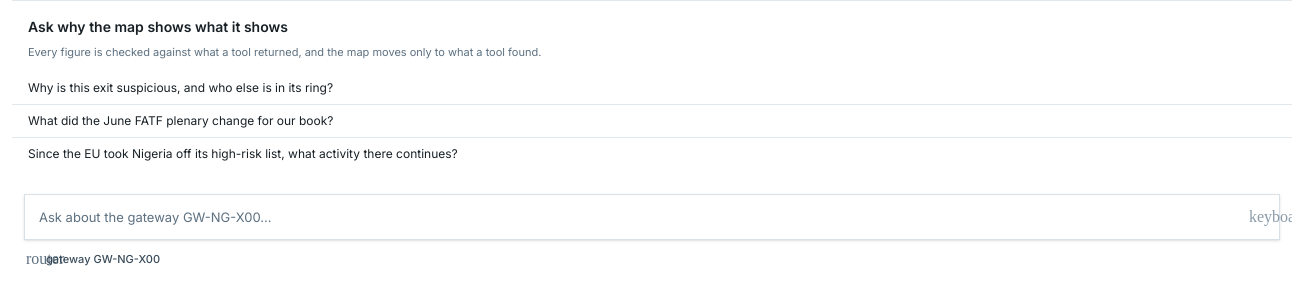
the geospatial assistant beside the map › asks with the map context and applies the first move when the answer arrives
Click the button "Why is this exit suspicious, and who else is in its ring?".
click(181, 88)  # box 12,72 -> 1292,104
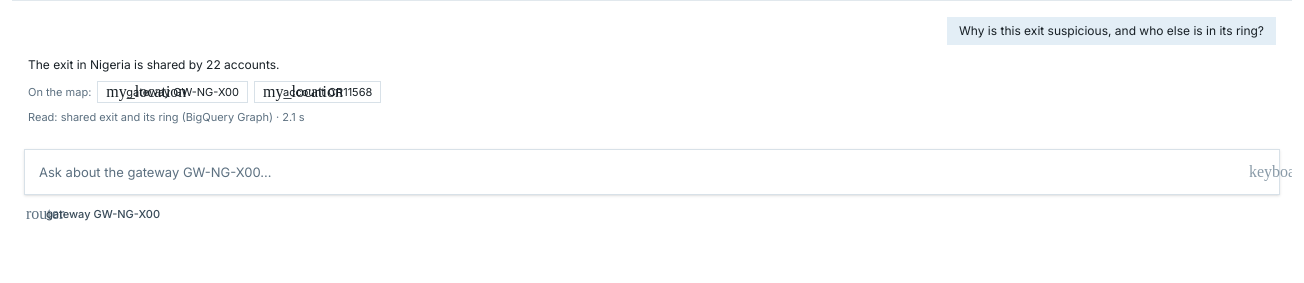
Now the text "The exit in Nigeria is shared by 22 accounts." is shown, box 28,57 -> 280,72
Now the text with test id "geo-turn-trace" reads "Read: shared exit and its ring (BigQuery Graph) · 2.1 s", box 28,110 -> 305,124
